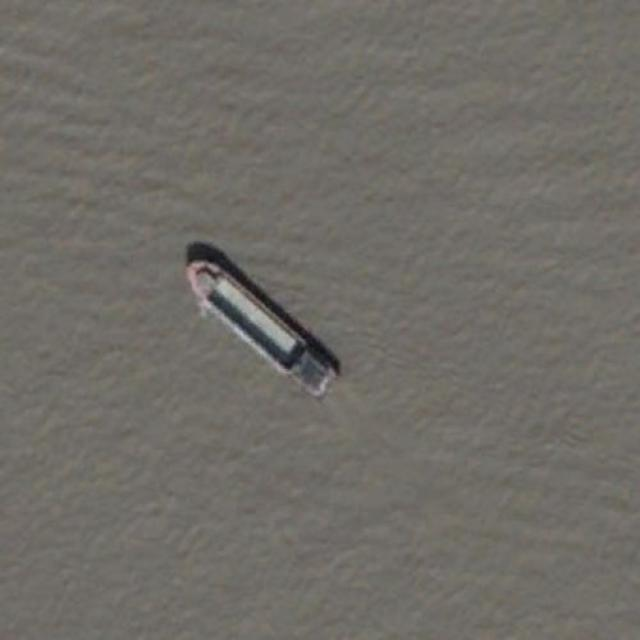ship: (183, 250, 339, 400)
